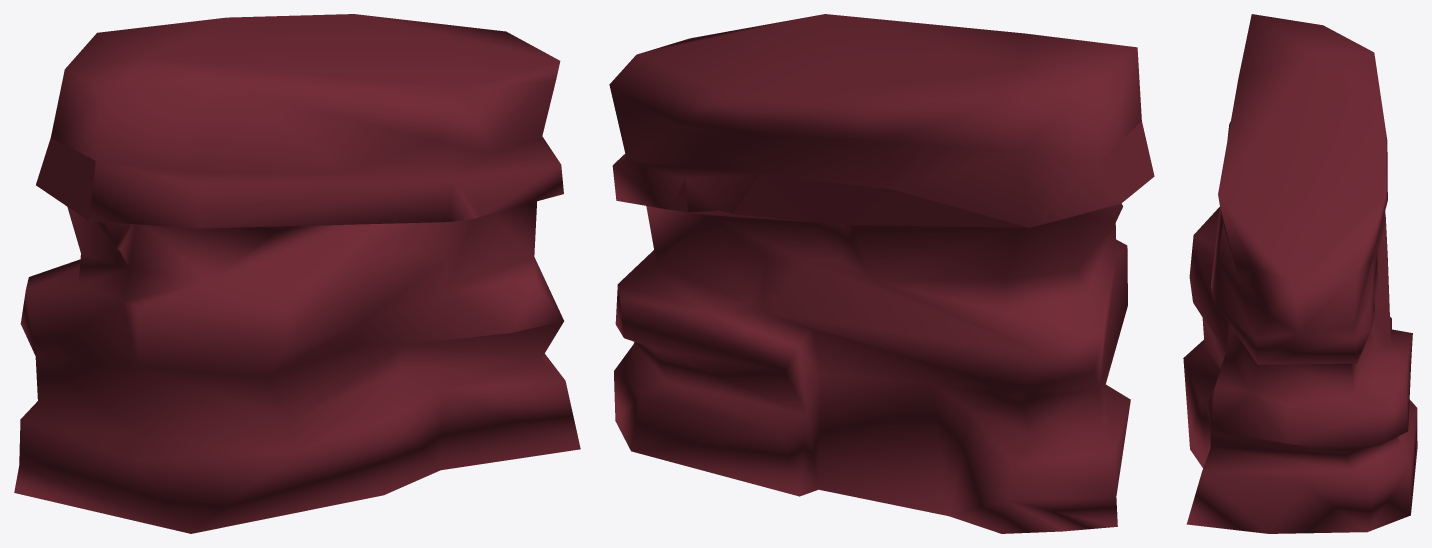
Rendered from Mesh_Wall_b.fbx.
3 renders of one model, left to right at view 1: azimuth 30°, elevation 25°; view 2: azimuth 150°, elevation 25°; view 3: azimuth 270°, elevation 25°, orthographic. The views are drawn at different scales.
Visible parts, largest first — view 1: wall_b; view 2: wall_b; view 3: wall_b.
Boxes of the visible parts, bbox=[...] form: wall_b: bbox=[14, 14, 580, 533]; wall_b: bbox=[609, 14, 1154, 533]; wall_b: bbox=[1183, 14, 1417, 533].
Size of the model in its own units: 14.61 by 11.75 by 7.26.
